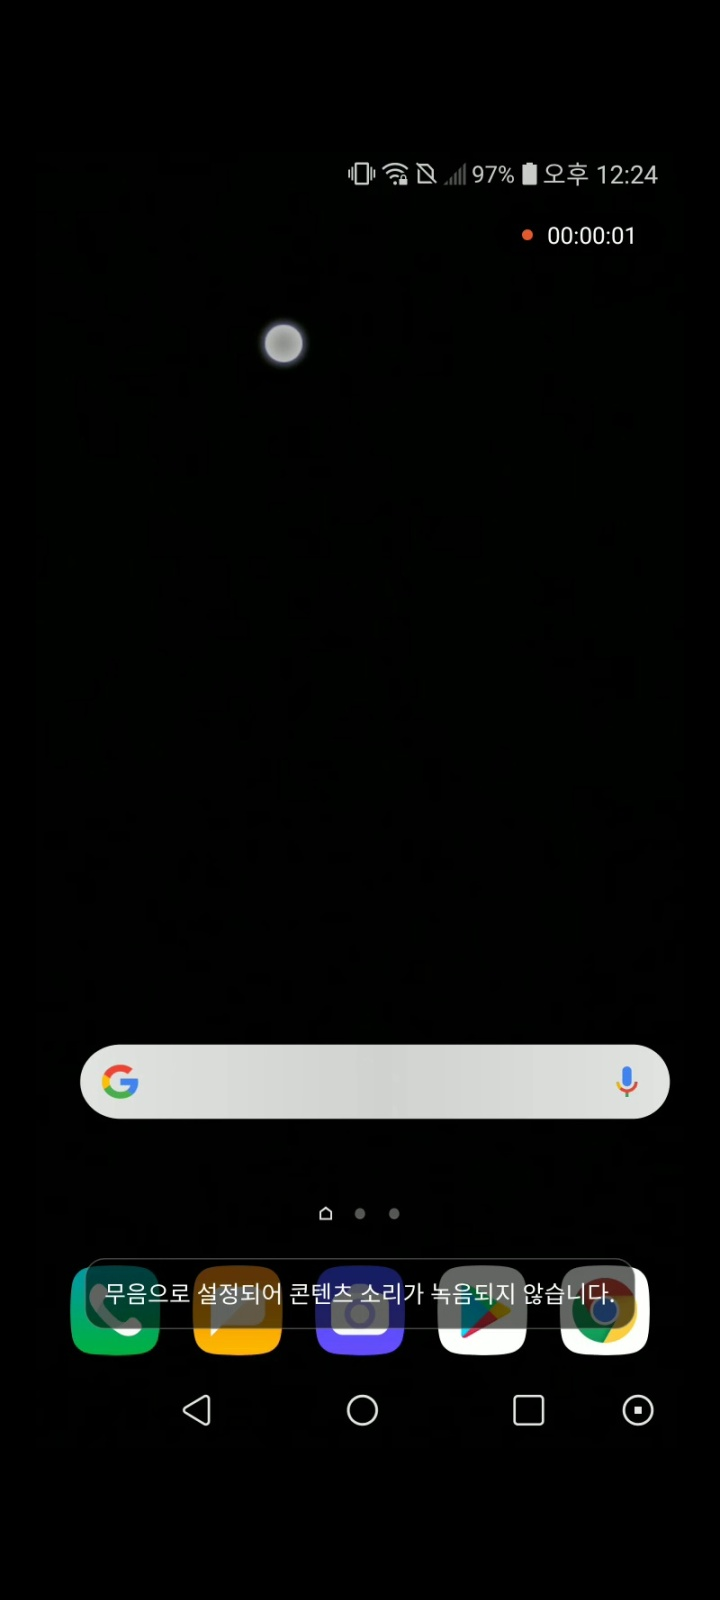Cursor: (261, 322, 306, 367)
